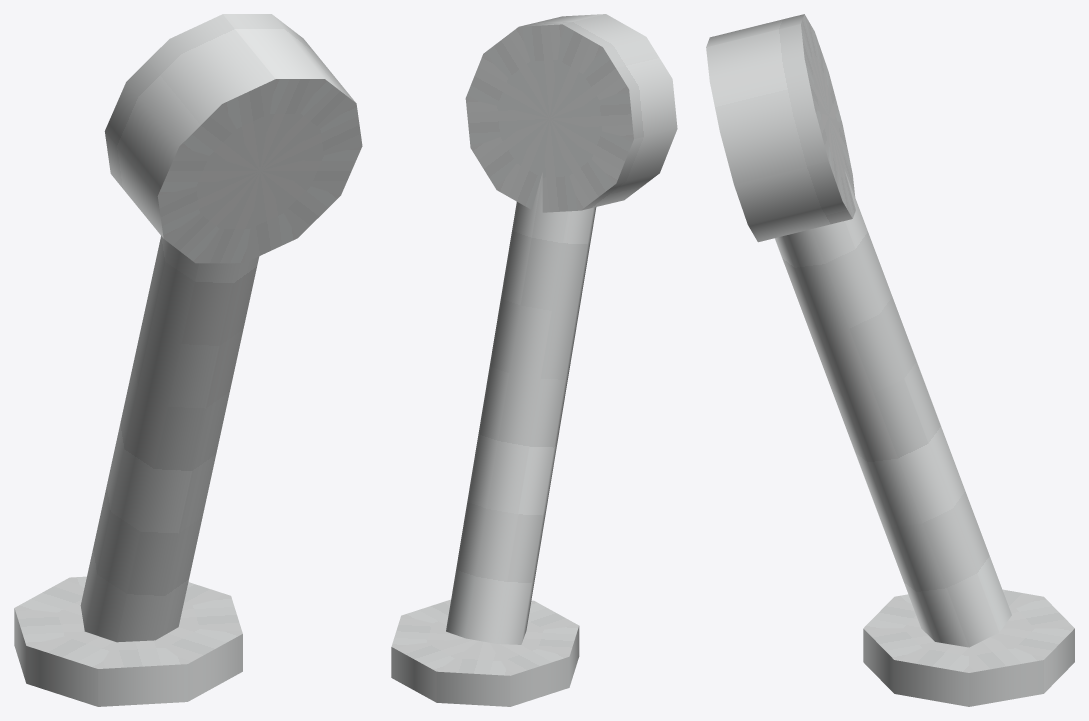
Rendered from trusssignalarm_stub_117.obj.
The picture shows the model from 3 angles, left to right: view 1: azimuth 30°, elevation 25°; view 2: azimuth 150°, elevation 25°; view 3: azimuth 270°, elevation 25°; orthographic projection. The views are drawn at different scales.
Parts seen in each view (by area): view 1: trusssignalarm_stub_117; view 2: trusssignalarm_stub_117; view 3: trusssignalarm_stub_117.
Part boxes in pixels (x1,y1,x2,y2): trusssignalarm_stub_117: [14, 14, 362, 706]; trusssignalarm_stub_117: [391, 14, 677, 706]; trusssignalarm_stub_117: [706, 14, 1074, 706].
Bounding box in the file's own units: 0.35 × 1.16 × 0.61.
